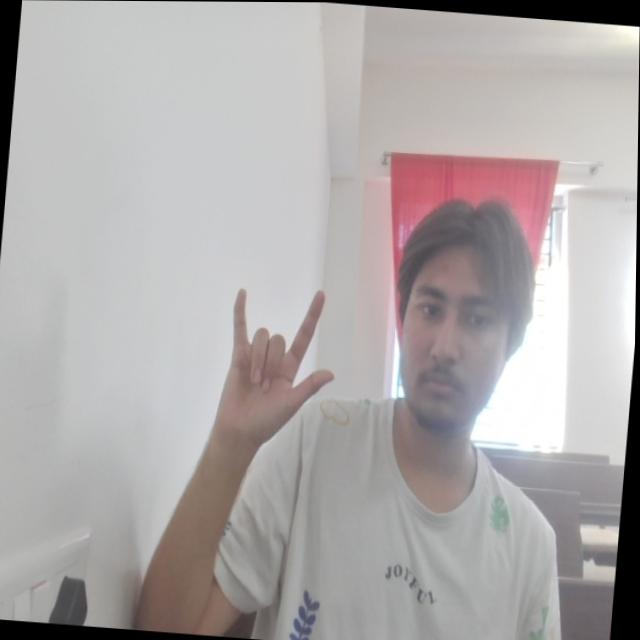iloveyou: (215, 275, 346, 453)
